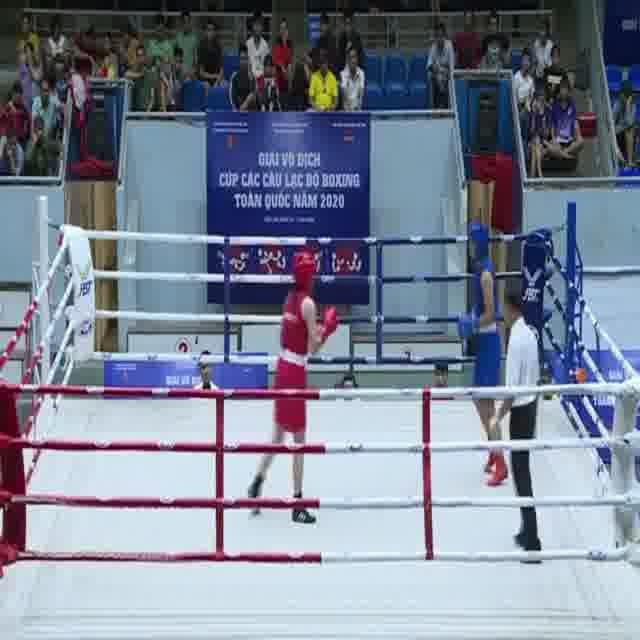blue-player: (456, 221, 511, 489)
red-player: (245, 242, 338, 525)
referee: (488, 284, 543, 568)
